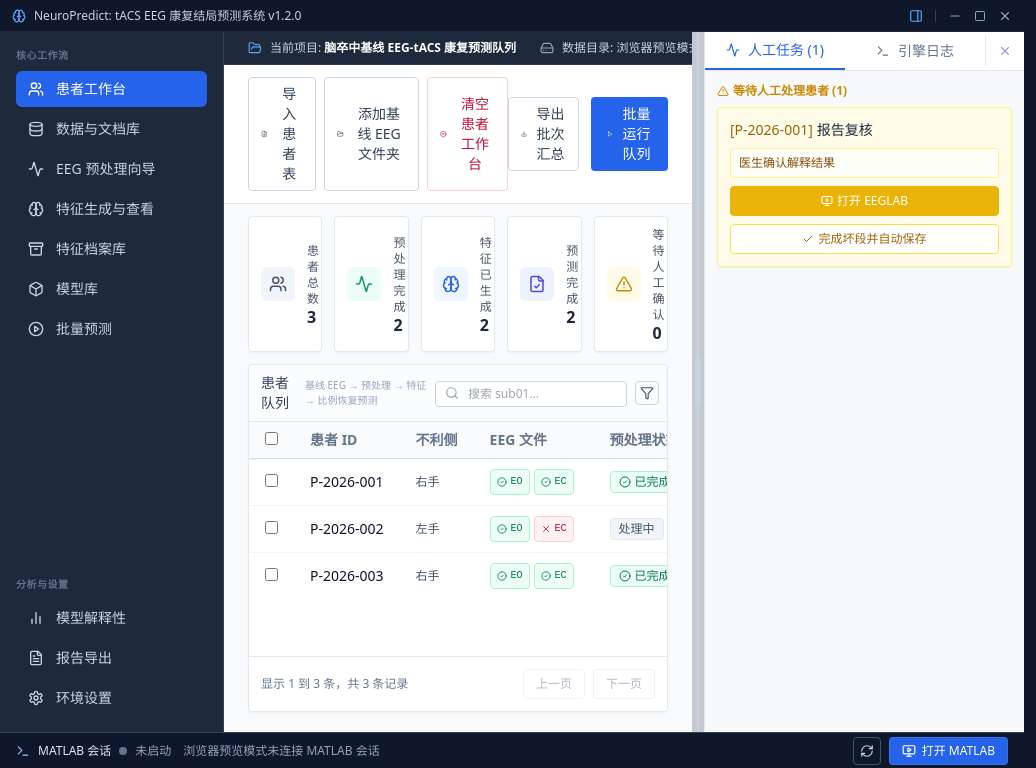
it: Gemini EEG preprocessing wizard › renders the 9-step wizard with the channel removal step active
What coordinates should you click on to do the following:
click the button "EEG 预处理向导"
I would click on:
 (112, 169)
Its box is top-left (16, 151), bottom-right (207, 187).
(page scrolled)
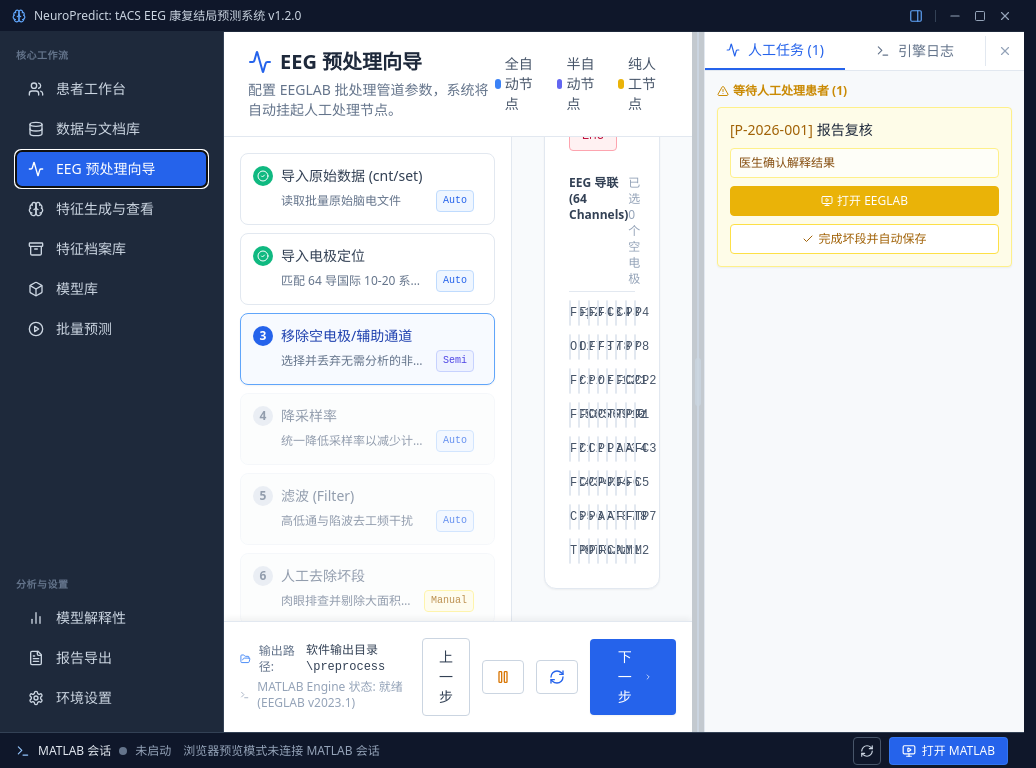
Result: the text "导入原始数据 (cnt/set)" is shown at top-left (281, 166), bottom-right (422, 186)
Result: the text "导入电极定位" is shown at top-left (281, 246), bottom-right (365, 266)
Result: the text "移除空电极/辅助通道" is shown at top-left (281, 326), bottom-right (412, 346)
